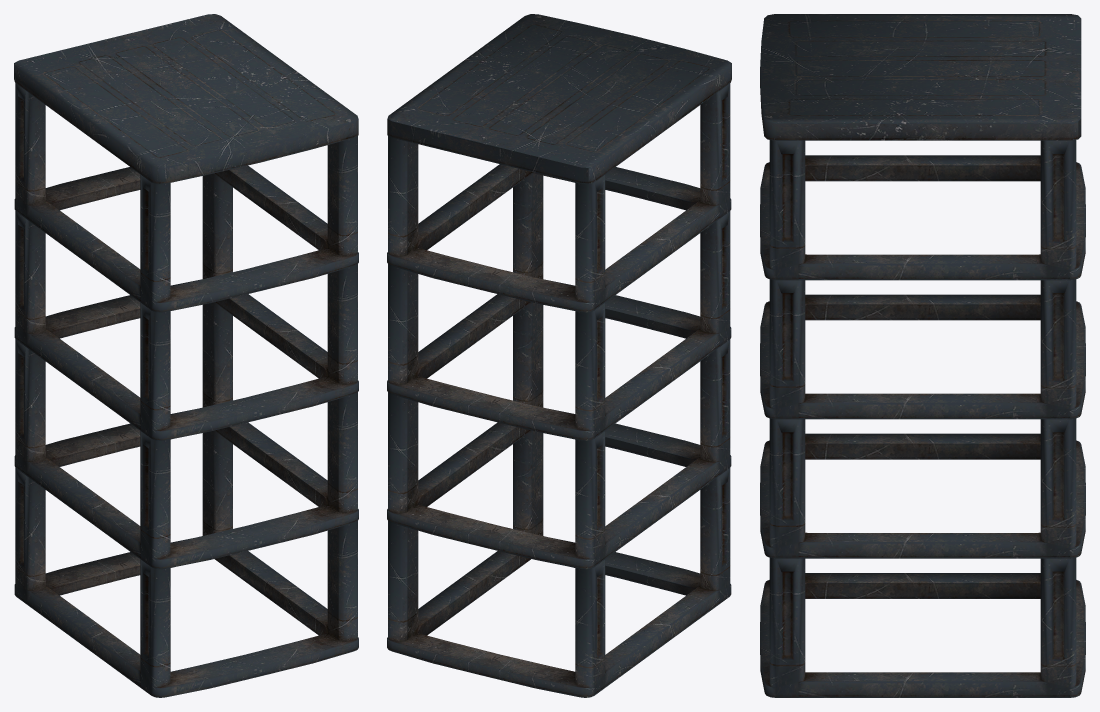
File: plasticCabinet01.FBX
The picture shows the model from 3 angles, left to right: view 1: azimuth 30°, elevation 25°; view 2: azimuth 150°, elevation 25°; view 3: azimuth 270°, elevation 25°; orthographic projection. The views are drawn at different scales.
Visible parts, largest first — view 1: SM_PlasticCabinet01; view 2: SM_PlasticCabinet01; view 3: SM_PlasticCabinet01.
Boxes of the visible parts, x1,y1,x2,y2 form: SM_PlasticCabinet01: [14, 14, 358, 697]; SM_PlasticCabinet01: [387, 14, 731, 697]; SM_PlasticCabinet01: [760, 14, 1085, 697].
Bounding box in the file's own units: 37.01 × 90.81 × 46.67.
1 material, 1 textured.
